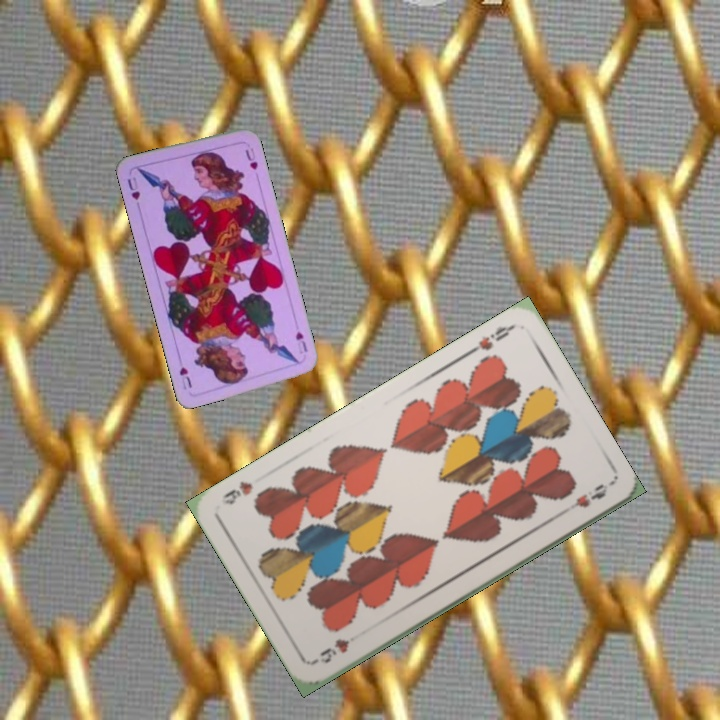H9: (463, 320, 517, 358), (310, 634, 352, 666)
HU: (123, 172, 143, 203), (291, 328, 310, 356)
